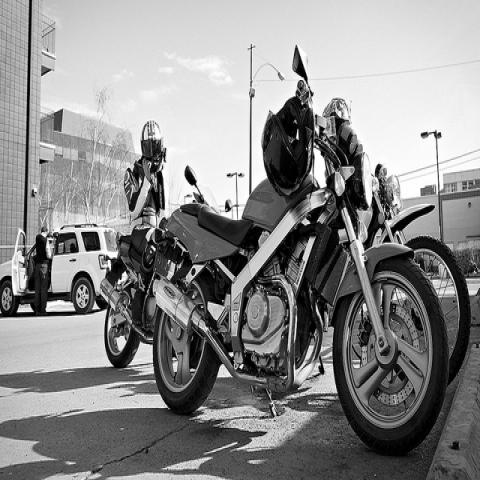car: (0, 224, 119, 315)
motorcycle: (152, 44, 448, 454), (360, 156, 472, 391), (99, 229, 160, 370)
